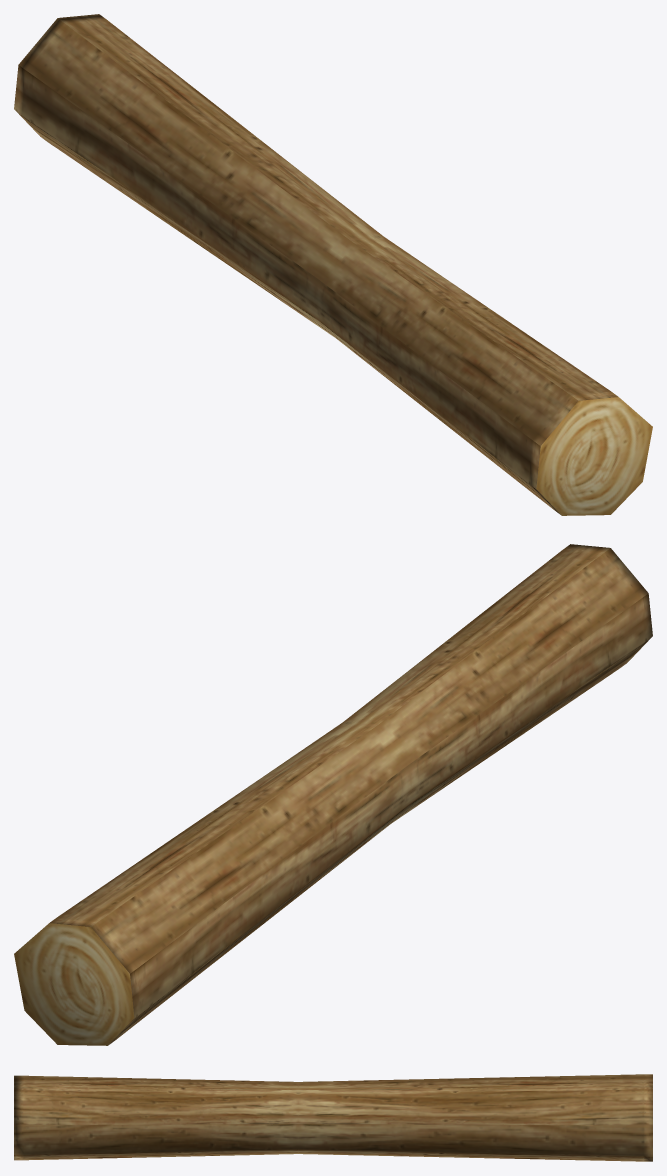
Rendered from troncao.fbx.
The picture shows the model from 3 angles, top to bottom: view 1: azimuth 30°, elevation 25°; view 2: azimuth 150°, elevation 25°; view 3: azimuth 270°, elevation 25°; orthographic projection. The views are drawn at different scales.
Visible parts, largest first — view 1: pCube1; view 2: pCube1; view 3: pCube1.
Part boxes in pixels (box(x1,y1,x2,y2)): pCube1: box(14, 14, 652, 515); pCube1: box(14, 544, 652, 1045); pCube1: box(14, 1074, 652, 1161).
Size of the model in its own units: 10.18 by 10.18 by 76.17.
1 material, 1 textured.
